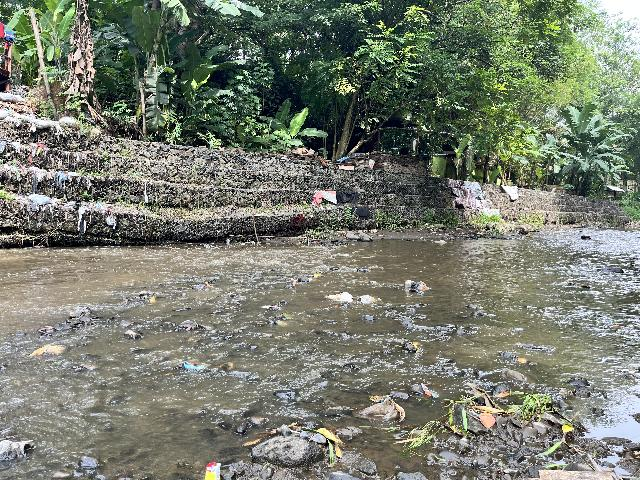Sampah Anorganik: (355, 392, 405, 422), (400, 273, 432, 299), (177, 357, 210, 373), (418, 380, 439, 400), (325, 288, 355, 302), (204, 456, 219, 480), (256, 301, 282, 310), (358, 295, 377, 304), (311, 273, 325, 279)
Sampah Organik: (452, 365, 571, 448), (237, 417, 343, 462), (28, 344, 66, 355), (194, 280, 214, 292), (408, 342, 426, 354), (216, 361, 237, 371), (31, 325, 54, 332), (272, 320, 286, 327), (281, 313, 293, 320), (150, 295, 156, 305), (292, 280, 297, 286)
